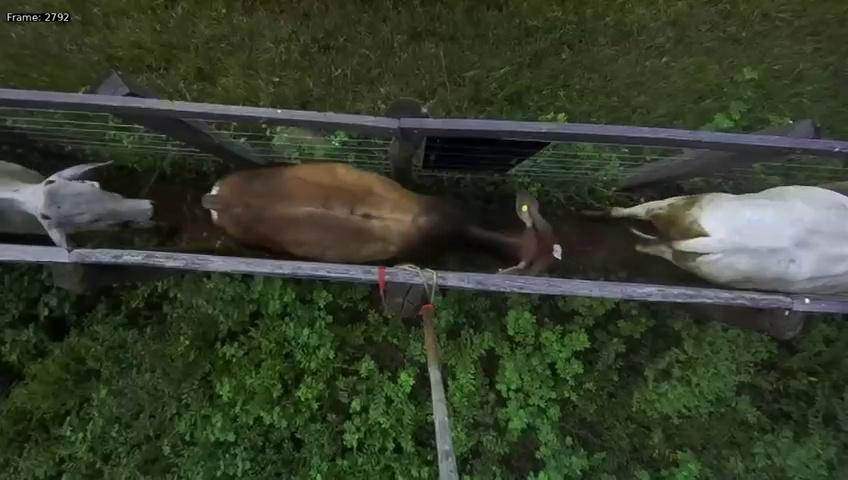cattle: (195, 154, 577, 284)
